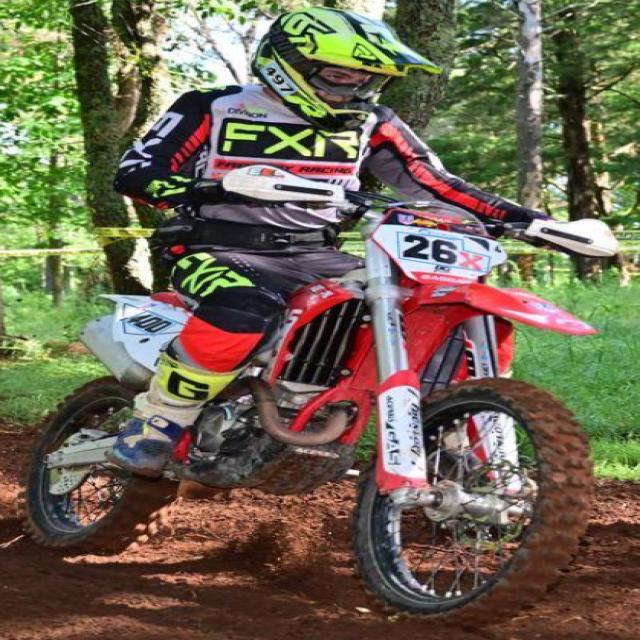Bike: (10, 205, 631, 623)
